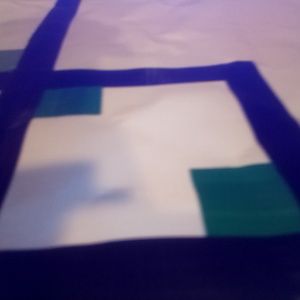bottom_right: (1, 71, 101, 116)
top_left: (191, 163, 300, 300), (1, 50, 43, 95)
